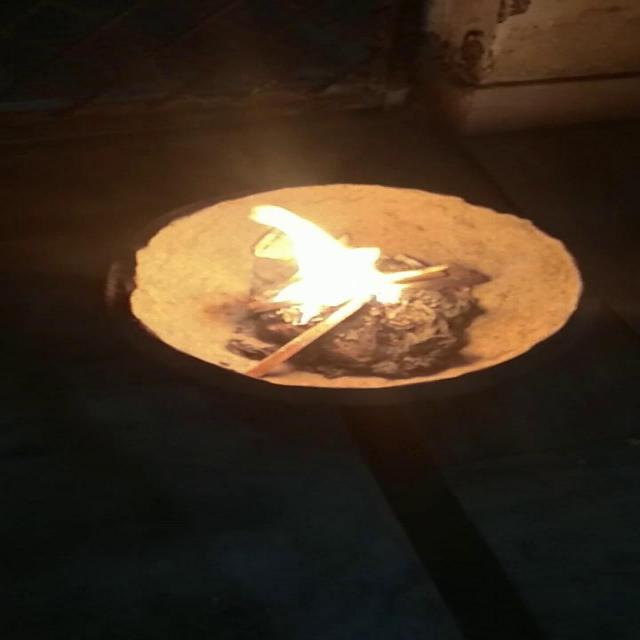fire: (230, 200, 438, 320)
